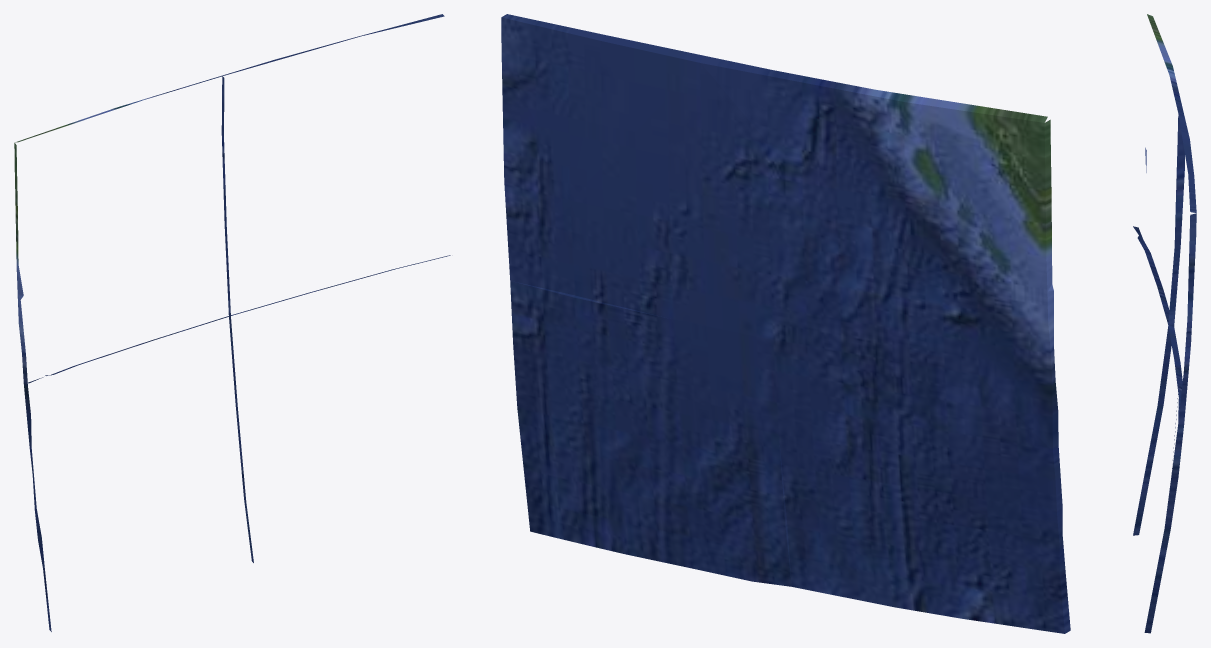
3 renders of one model, left to right at view 1: azimuth 30°, elevation 25°; view 2: azimuth 150°, elevation 25°; view 3: azimuth 270°, elevation 25°, orthographic. The views are drawn at different scales.
Size of the model in its own units: 1259244 by 1252808 by 261146.
Materials: 1 (1 with a texture image).
